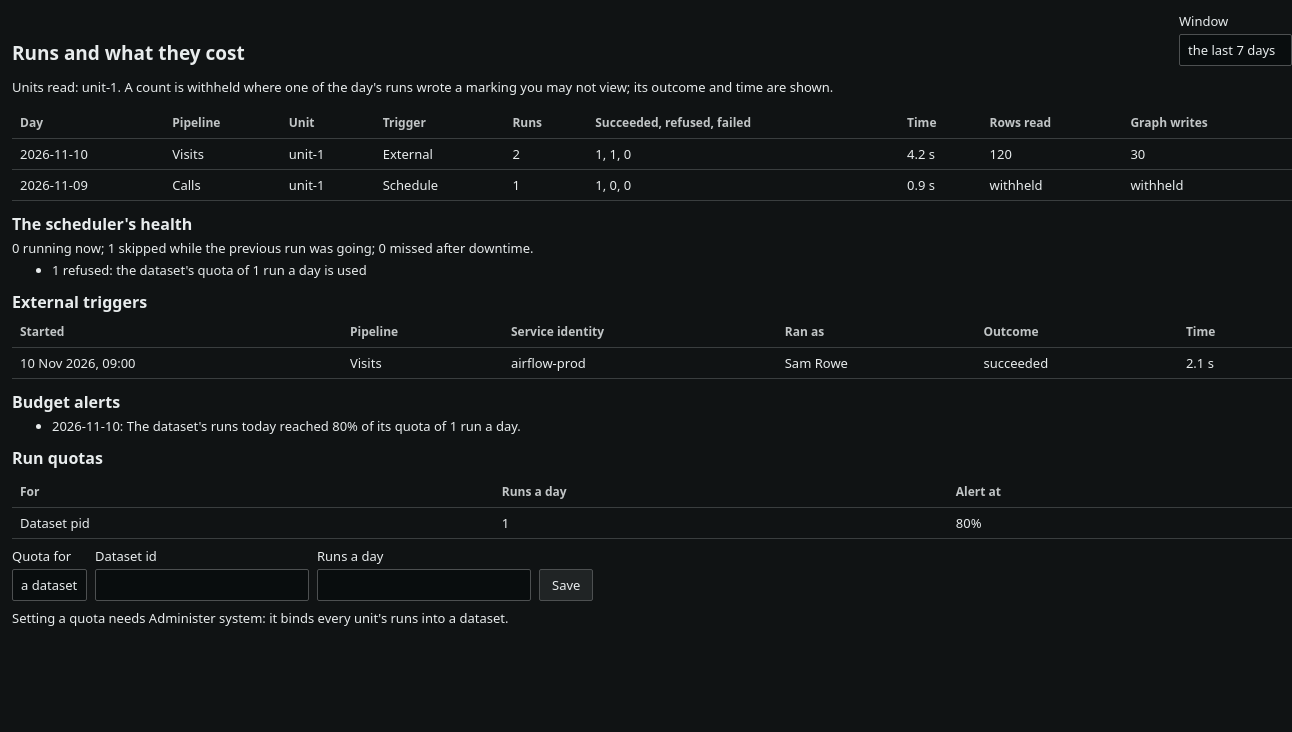
Test: OperationsFigures › says in words why a save was refused
Check: the table named "Run quotas" is shown, box [12,477,1291,539]
In the field labelled "Dataset id": x=202, y=585 [95,569,309,601], type "pid"
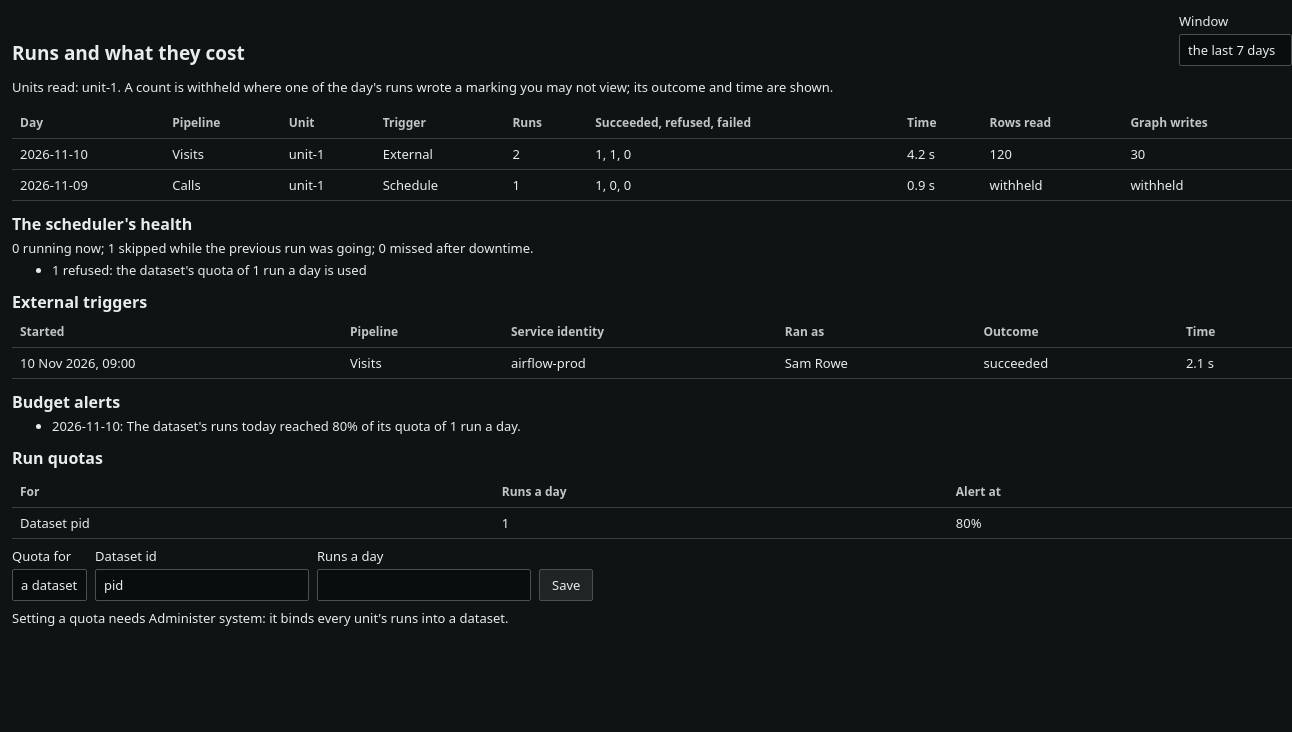
In the number field labelled "Runs a day": x=424, y=585 [317,569,531,601], type "2"
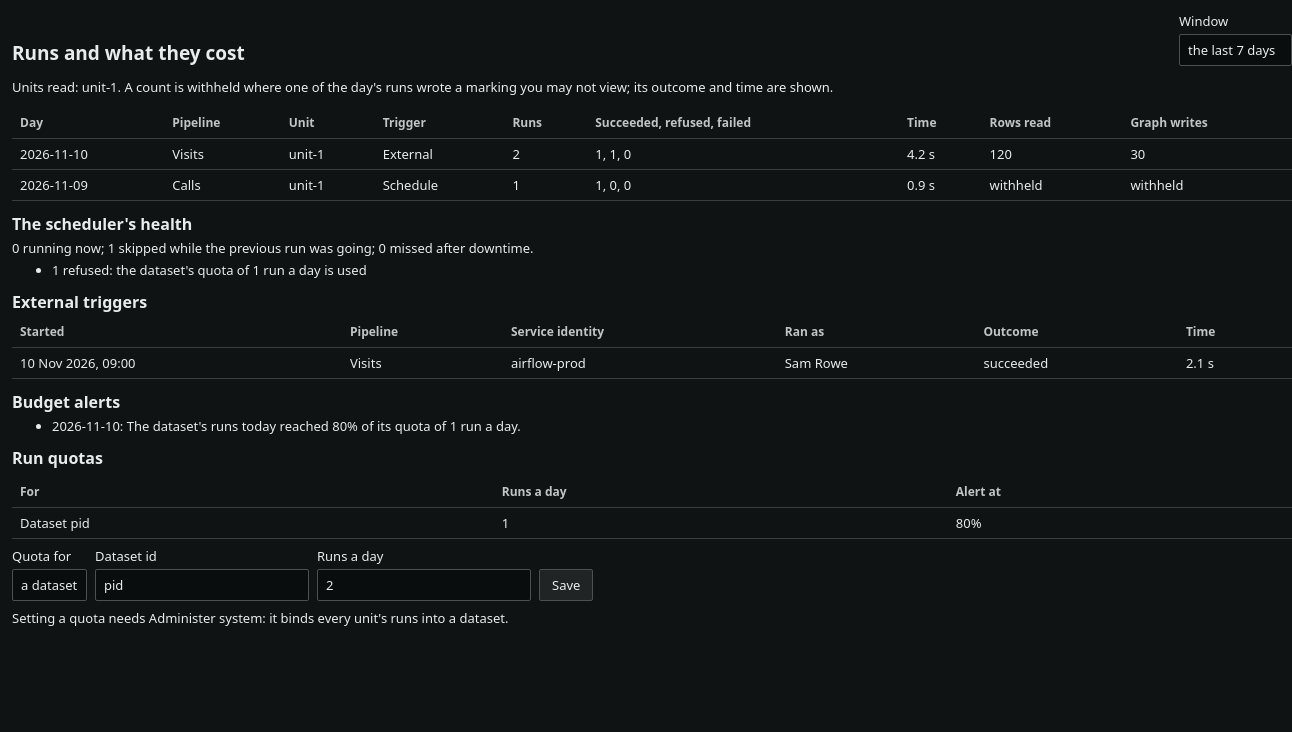
Click the button with aria-label "Save the run quota": x=566, y=585 [539,569,593,601]
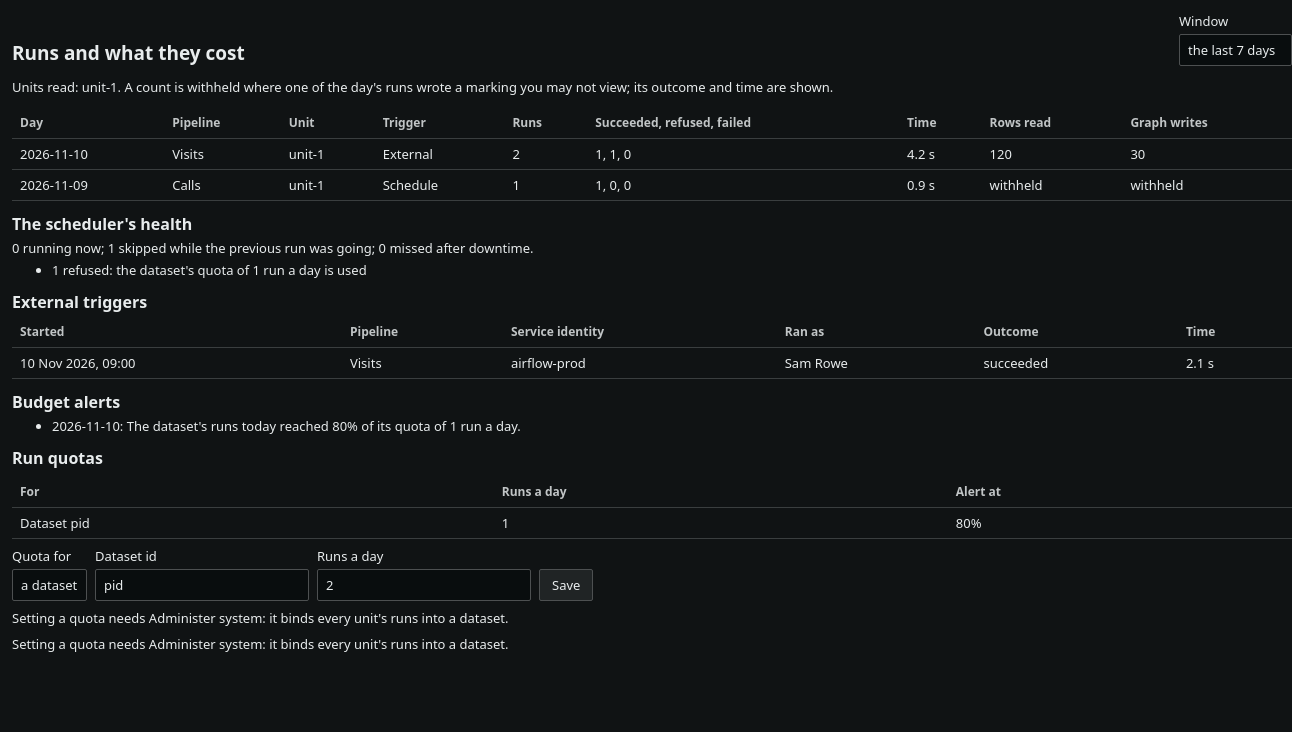
Check: the message shows "Setting a quota needs Administer system: it binds every unit's runs into a dataset.", box [12,635,509,653]
